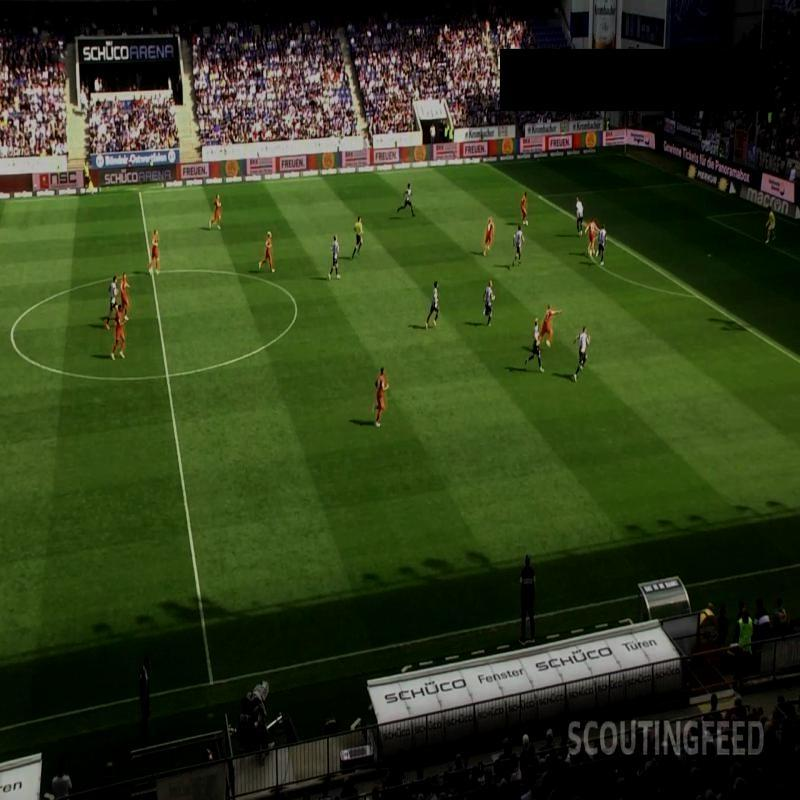1: (618, 146, 632, 160)
10: (598, 231, 612, 244)
11: (694, 288, 708, 302)
13: (134, 184, 148, 198)
14: (143, 264, 160, 278)
15: (159, 367, 176, 384)
16: (197, 672, 223, 696)
2: (688, 176, 702, 190)
3: (756, 204, 770, 218)
7: (700, 210, 714, 224)
9: (528, 188, 548, 204)
c: (1, 325, 20, 348), (288, 294, 304, 314)
